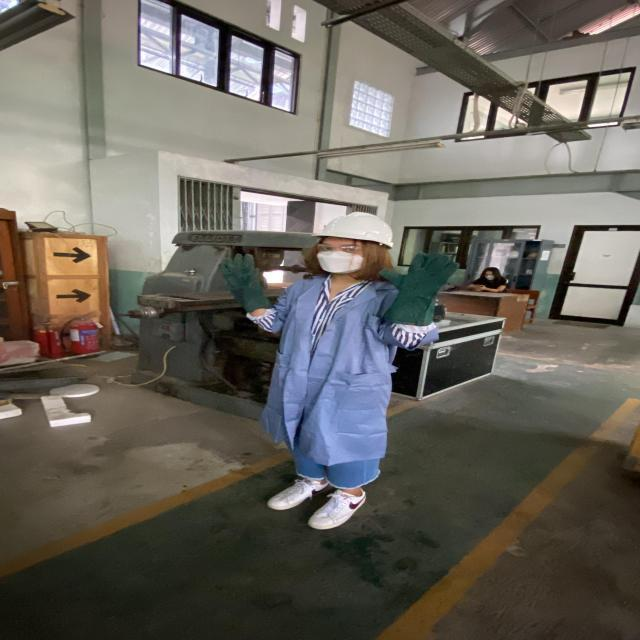glasses: (313, 242, 367, 256)
